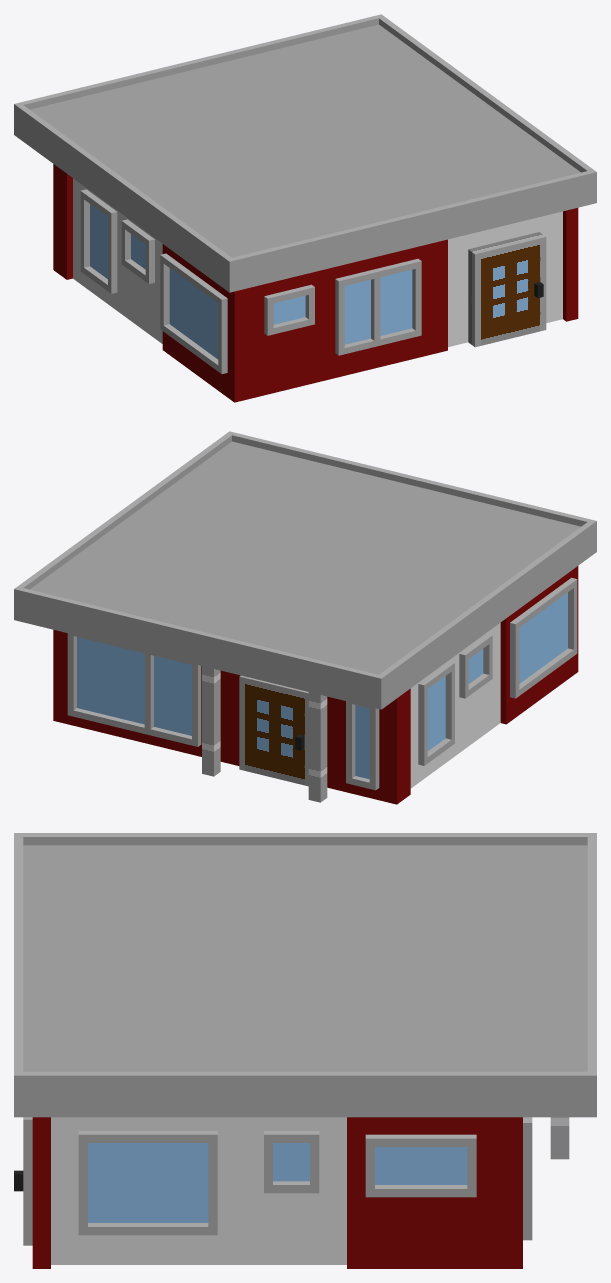
Rendered from obj_house1c.dae.
3 views of the same model, one above another, from view 1: azimuth 30°, elevation 25°; view 2: azimuth 150°, elevation 25°; view 3: azimuth 270°, elevation 25° (orthographic). The views are drawn at different scales.
Visible parts, largest first — view 1: obj_house1c; view 2: obj_house1c; view 3: obj_house1c.
Boxes of the visible parts, box(x1,y1,x2,y2) form: obj_house1c: box(14, 14, 596, 402); obj_house1c: box(14, 431, 596, 804); obj_house1c: box(14, 833, 596, 1268).
Size of the model in its own units: 6.2 by 6.3 by 2.4.
Materials: 1 (1 with a texture image).
